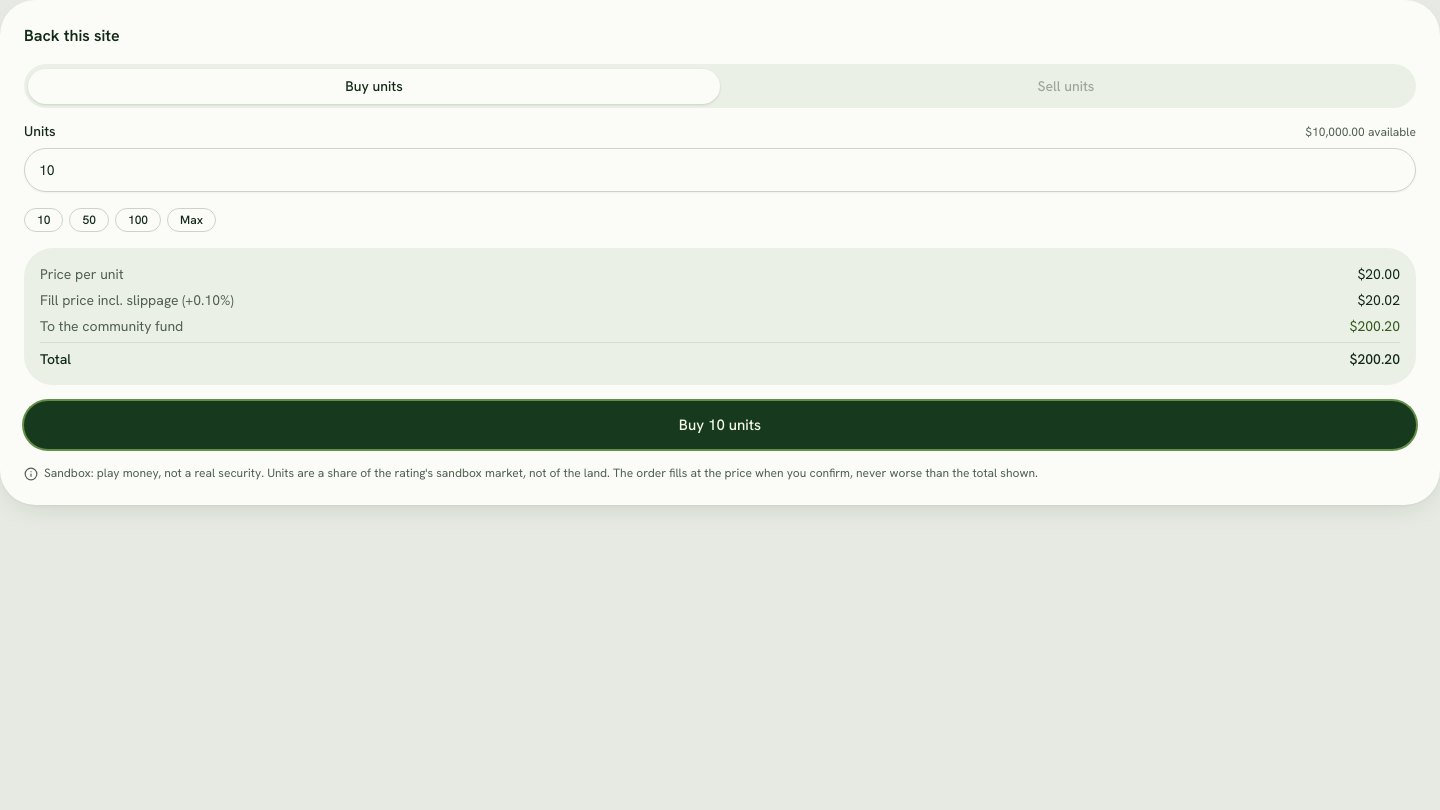
Test case: TradePanel › shows the balance and holding the order returned, not the cached portfolio
The image size is (1440, 810).
Expected: the element named "Quote" shows "$200.20", [1350,317,1400,335]
Click the button "Buy 10 units" at (720, 425), box [24,401,1416,449]
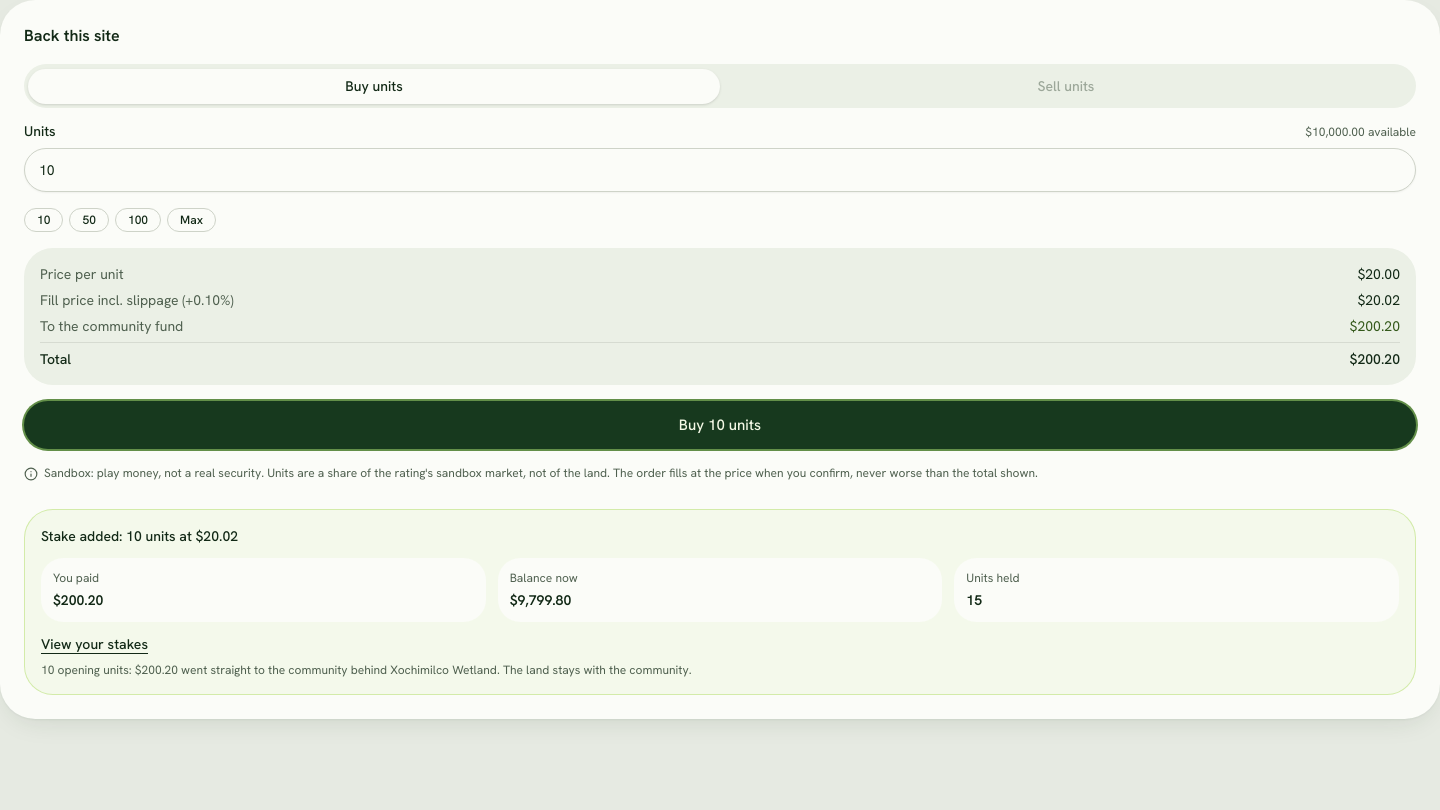
Now the text "$9,799.80" is shown, box [510,591,571,609]
Now the text "15" is shown, box [966,591,982,609]
